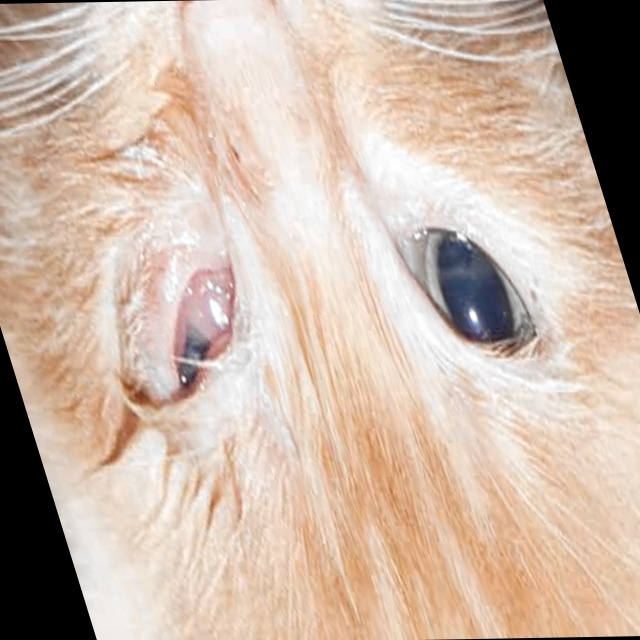eye_infection: (382, 221, 550, 357), (140, 262, 261, 393)
